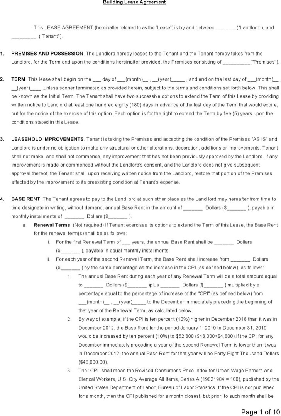textline: (222, 57, 250, 67), (160, 280, 182, 290), (215, 22, 236, 32), (213, 236, 234, 246), (230, 254, 251, 264), (11, 32, 37, 40), (227, 203, 247, 213), (83, 281, 105, 290), (183, 203, 203, 212), (60, 245, 80, 254), (64, 213, 85, 221), (109, 212, 128, 220), (128, 281, 147, 289), (204, 281, 223, 289), (61, 264, 81, 271), (132, 298, 146, 306), (170, 76, 185, 83), (92, 74, 102, 84), (116, 74, 125, 84), (30, 84, 40, 92), (142, 74, 149, 84), (120, 239, 130, 246), (151, 74, 158, 83), (247, 76, 256, 83), (9, 85, 17, 92), (78, 300, 86, 306), (103, 298, 109, 306), (273, 77, 279, 84), (113, 299, 119, 306)
